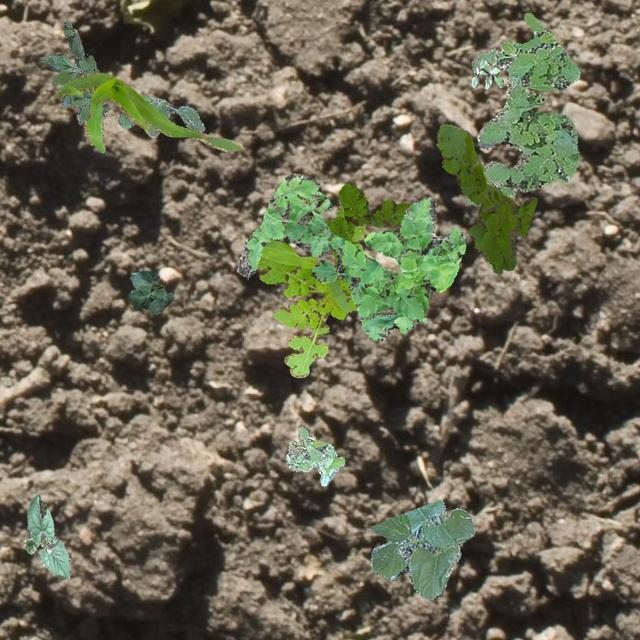crop: (54, 72, 242, 152), (369, 498, 474, 598), (22, 493, 70, 578), (126, 270, 172, 314)
weed: (235, 172, 464, 340), (464, 12, 578, 205), (256, 202, 364, 376), (436, 122, 536, 274), (40, 20, 109, 124), (324, 182, 412, 242), (118, 94, 204, 138), (284, 424, 344, 486), (470, 48, 502, 88)
